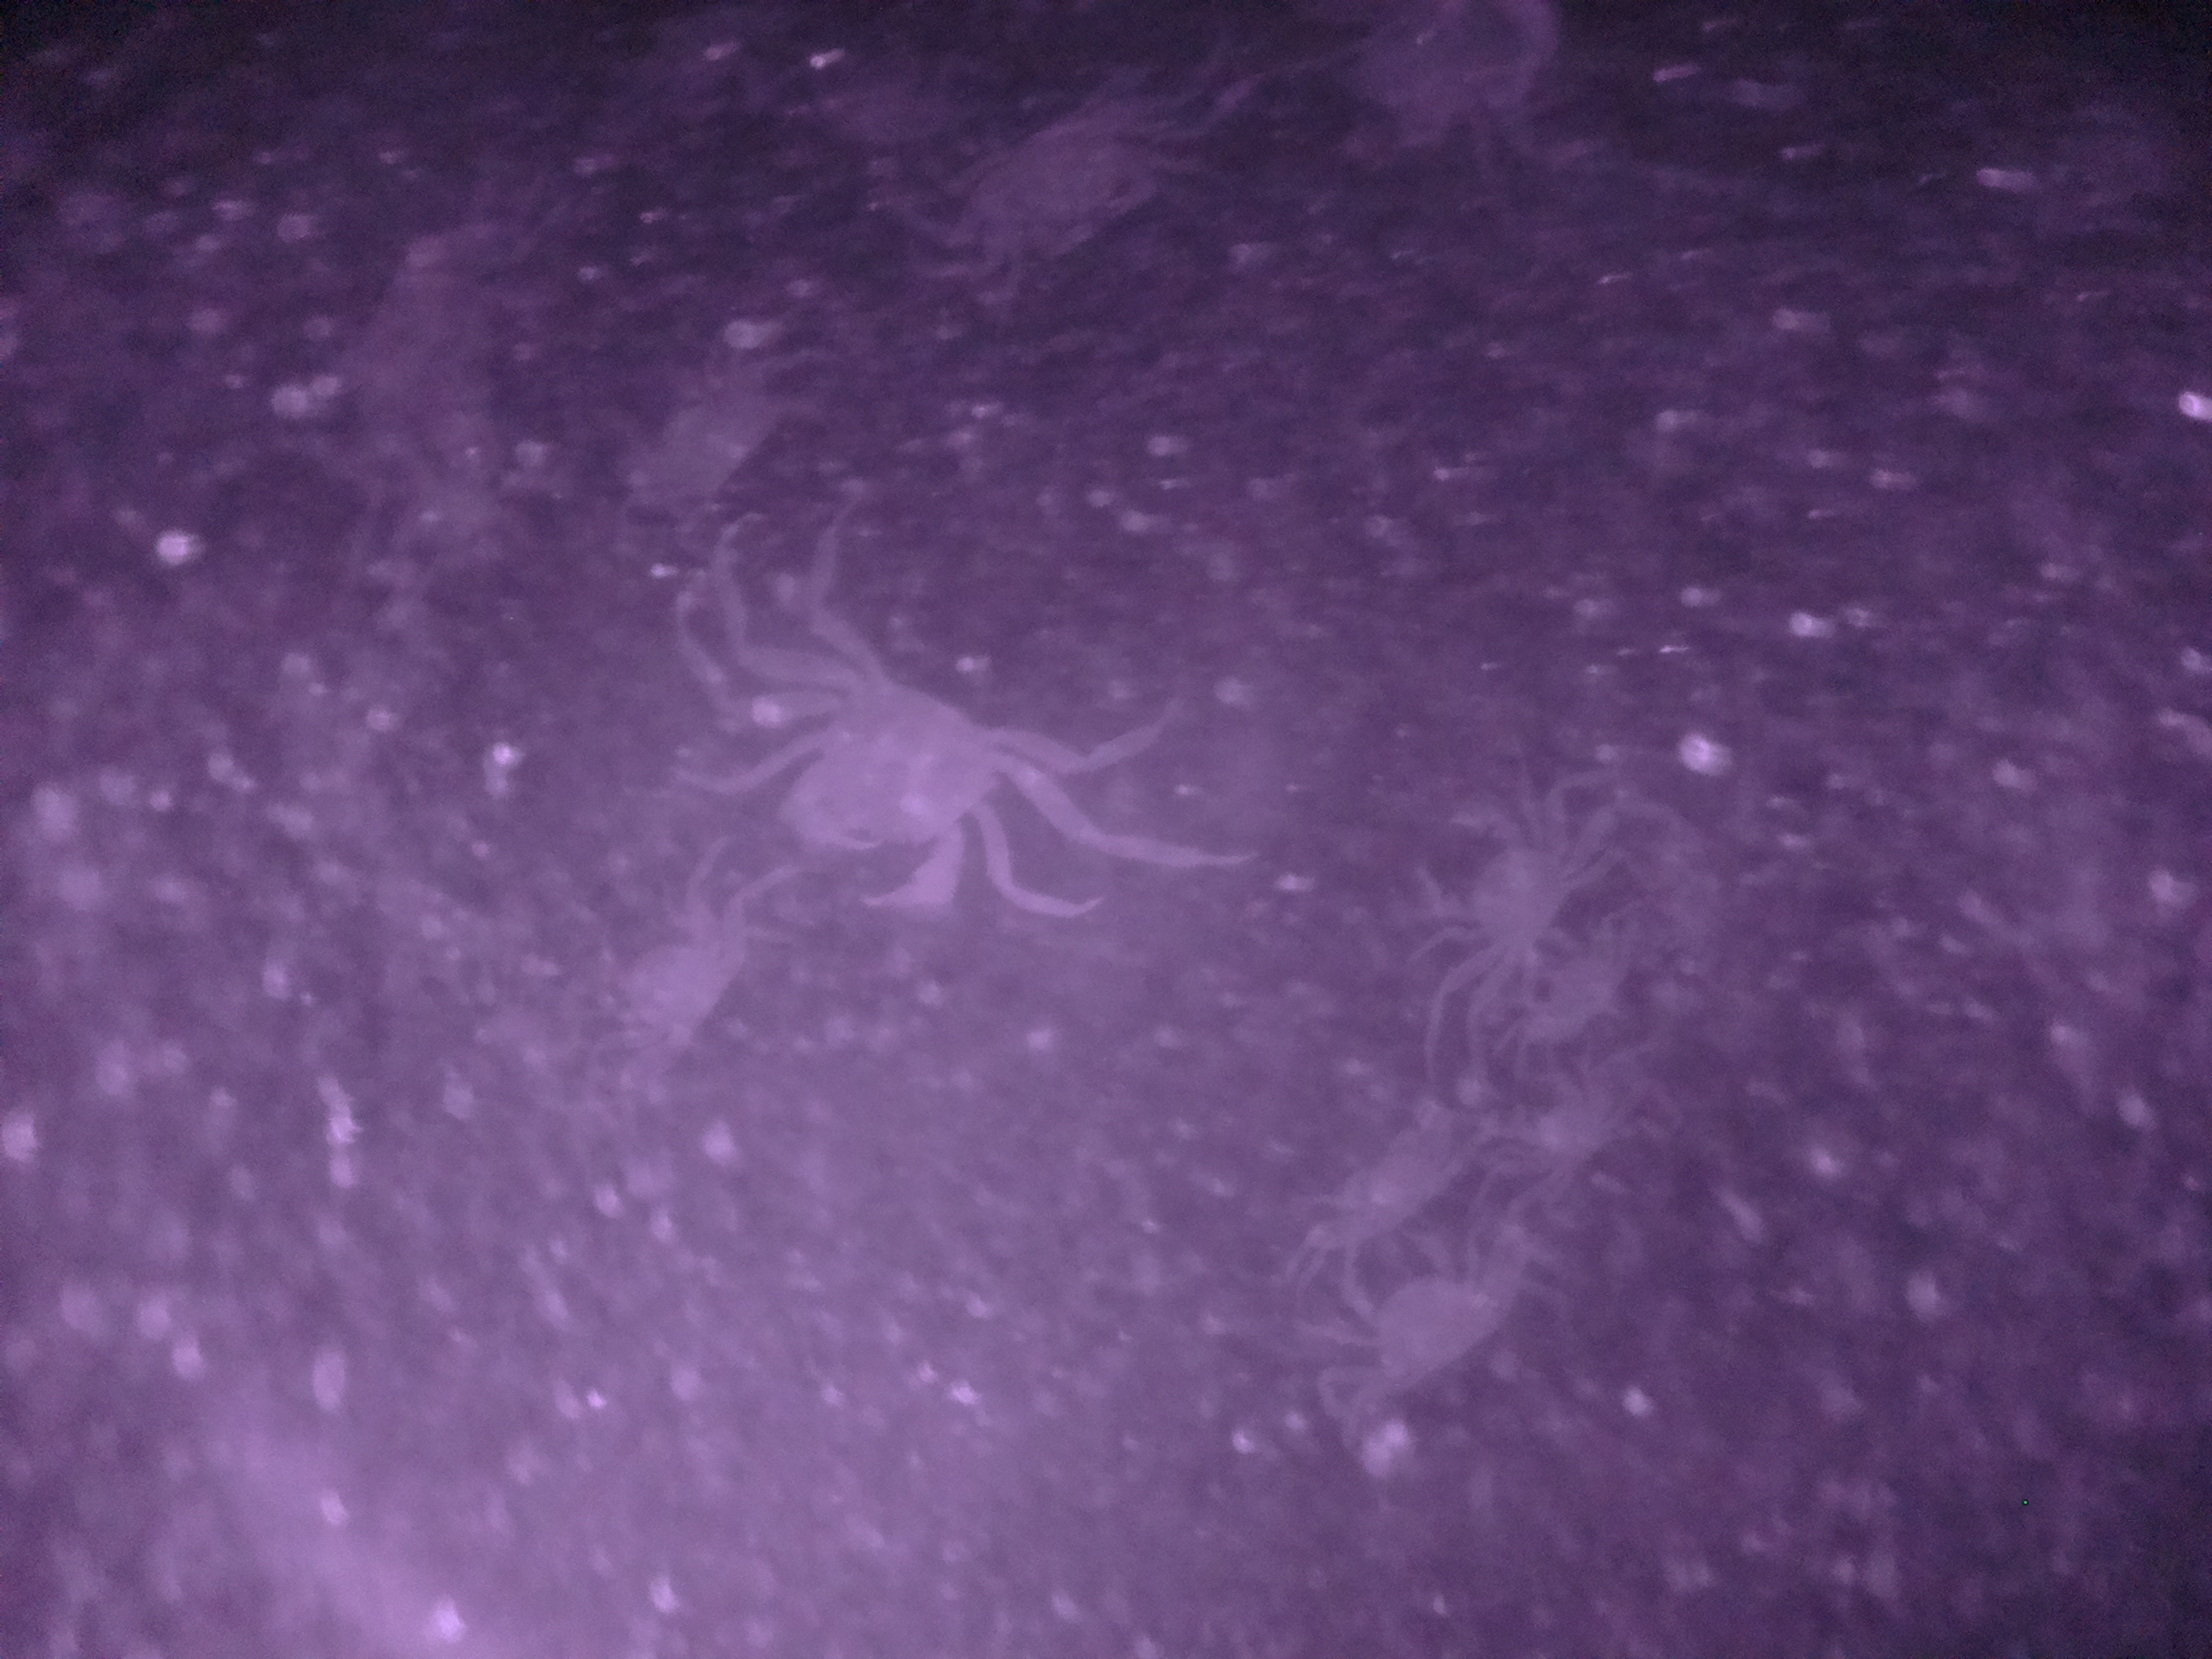Crab: (733, 641, 1036, 938), (1327, 1192, 1541, 1422), (1409, 775, 1616, 988)
